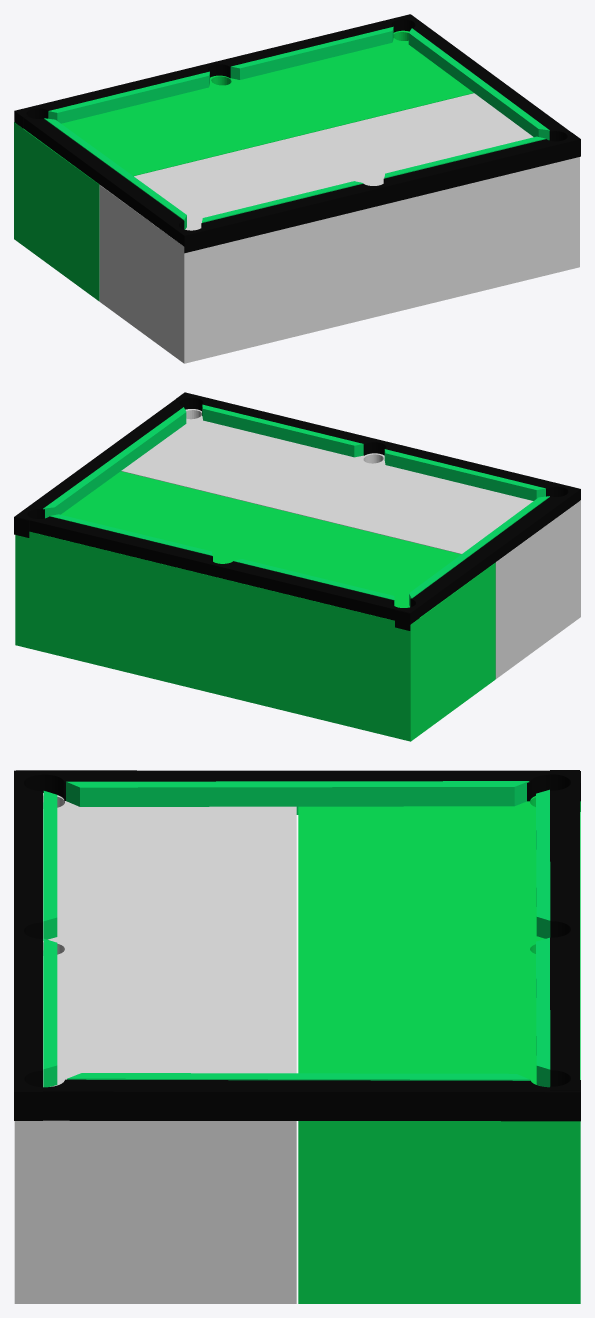
The model's file is pool8table.fbx.
3 renders of one model, top to bottom at view 1: azimuth 30°, elevation 25°; view 2: azimuth 150°, elevation 25°; view 3: azimuth 270°, elevation 25°, orthographic. The views are drawn at different scales.
Parts seen in each view (by area): view 1: Cube, Cube.002, Cube.005, Cube.006, Cube.004, Cube.010, Cube.009, Cube.011, Cube.008, Cube.012, Cube.003, Cube.007; view 2: Cube.002, Cube, Cube.004, Cube.006, Cube.005, Cube.008, Cube.009, Cube.003, Cube.007, Cube.012, Cube.011, Cube.010; view 3: Cube, Cube.002, Cube.008, Cube.012, Cube.005, Cube.004, Cube.006, Cube.009, Cube.007, Cube.003, Cube.010, Cube.011.
Boxes of the visible parts, box(x1,y1,x2,y2) form: Cube: box(99, 93, 579, 363); Cube.002: box(14, 30, 473, 300); Cube.005: box(176, 133, 580, 253); Cube.006: box(23, 109, 198, 246); Cube.004: box(14, 14, 418, 128); Cube.010: box(230, 26, 393, 79); Cube.009: box(408, 28, 549, 140); Cube.011: box(48, 71, 209, 123); Cube.008: box(398, 14, 579, 141); Cube.012: box(44, 118, 186, 229); Cube.003: box(384, 136, 545, 178); Cube.007: box(202, 181, 363, 222); Cube.002: box(15, 471, 495, 741); Cube: box(121, 409, 580, 678); Cube.004: box(16, 510, 419, 624); Cube.006: box(395, 486, 580, 630); Cube.005: box(176, 392, 580, 499); Cube.008: box(14, 393, 196, 537); Cube.009: box(43, 407, 186, 518); Cube.003: box(202, 404, 363, 457); Cube.007: box(384, 449, 545, 500); Cube.012: box(409, 496, 549, 606); Cube.011: box(233, 559, 394, 605); Cube.010: box(50, 514, 212, 555); Cube: box(14, 793, 296, 1303); Cube.002: box(298, 796, 580, 1303); Cube.008: box(16, 1079, 580, 1121); Cube.012: box(66, 781, 529, 814); Cube.005: box(14, 770, 42, 1120); Cube.004: box(550, 770, 579, 1090); Cube.006: box(16, 770, 580, 811); Cube.009: box(67, 1073, 530, 1080); Cube.007: box(43, 791, 57, 940); Cube.003: box(43, 939, 57, 1087); Cube.010: box(536, 937, 550, 1087); Cube.011: box(536, 789, 550, 938).
Bounding box in the file's own units: 710 × 220 × 529.
